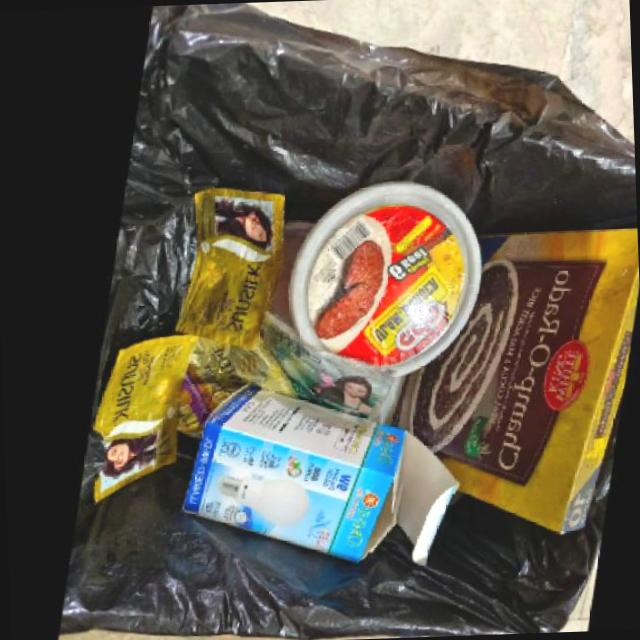carton: (391, 226, 638, 532), (179, 379, 457, 562)
goi_nhua_nho: (169, 182, 277, 344), (88, 328, 192, 496), (255, 307, 392, 416), (173, 332, 293, 432)
hop_nhua: (281, 175, 475, 370)
